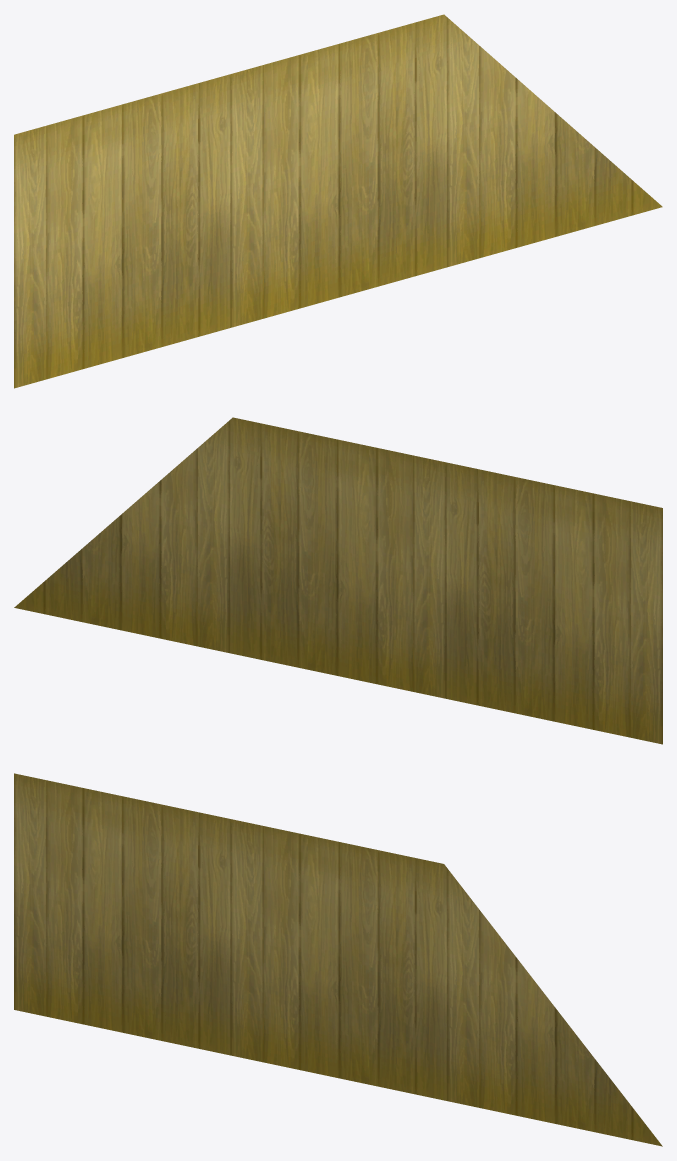
The model's file is HTOWN01_BAGROW3FRONT.fbx.
3 renders of one model, top to bottom at view 1: azimuth 30°, elevation 25°; view 2: azimuth 150°, elevation 25°; view 3: azimuth 330°, elevation 25°, orthographic. The views are drawn at different scales.
Visible parts, largest first — view 1: HTOWN01_BAGROW3FRONT; view 2: HTOWN01_BAGROW3FRONT; view 3: HTOWN01_BAGROW3FRONT.
Part boxes in pixels (x1,y1,x2,y2): HTOWN01_BAGROW3FRONT: [14, 14, 662, 388]; HTOWN01_BAGROW3FRONT: [14, 417, 662, 744]; HTOWN01_BAGROW3FRONT: [14, 773, 662, 1146].
Bounding box in the file's own units: 93235 × 33614 × 5703.
Materials: 1 (1 with a texture image).
